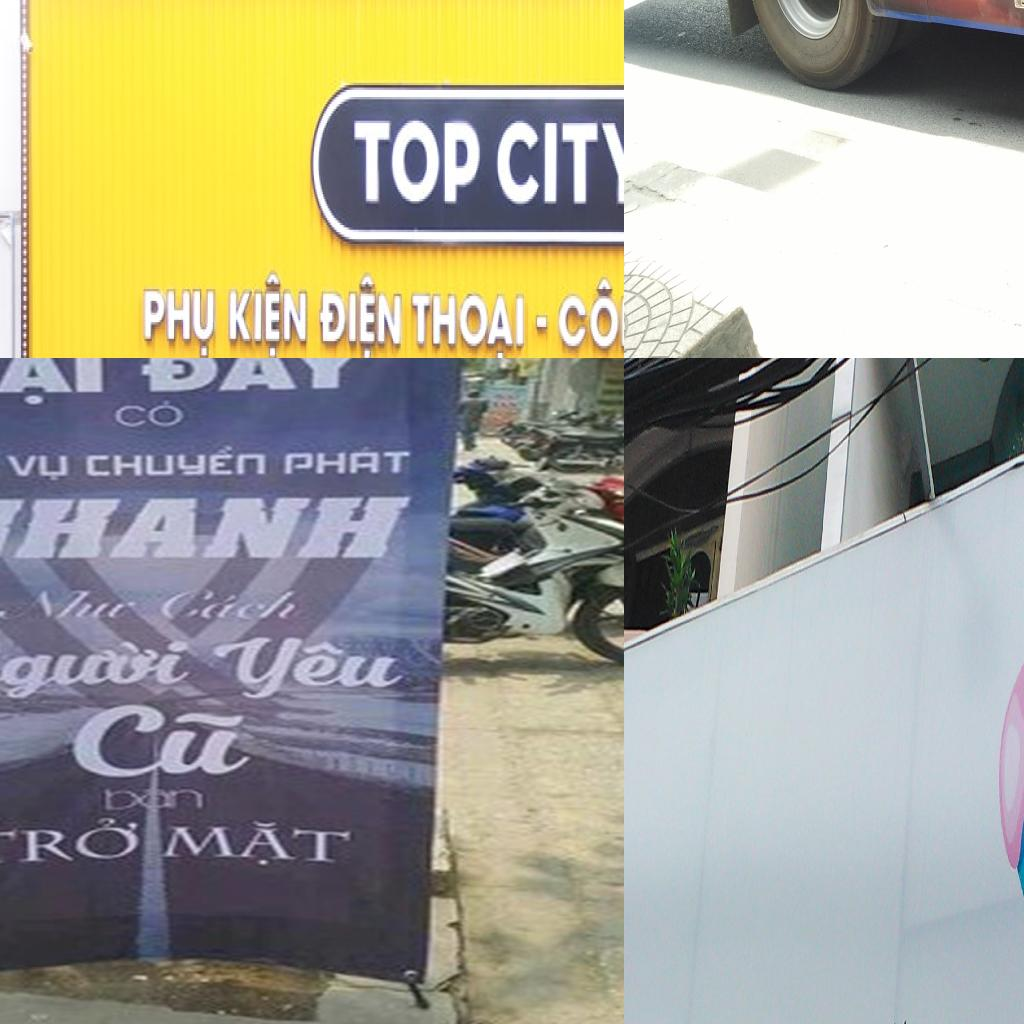text: (0, 492, 419, 562), (58, 702, 268, 782), (200, 636, 419, 702), (0, 634, 200, 702), (353, 118, 484, 208), (494, 120, 624, 208), (154, 818, 361, 871), (136, 358, 377, 396), (409, 289, 525, 358), (0, 814, 143, 869), (225, 270, 310, 358), (317, 272, 403, 358), (83, 443, 270, 479), (144, 586, 321, 623), (0, 587, 145, 624), (0, 358, 107, 408), (143, 286, 217, 358), (556, 275, 624, 353), (279, 444, 415, 478), (100, 786, 210, 813), (109, 398, 191, 431), (1, 452, 73, 483)
